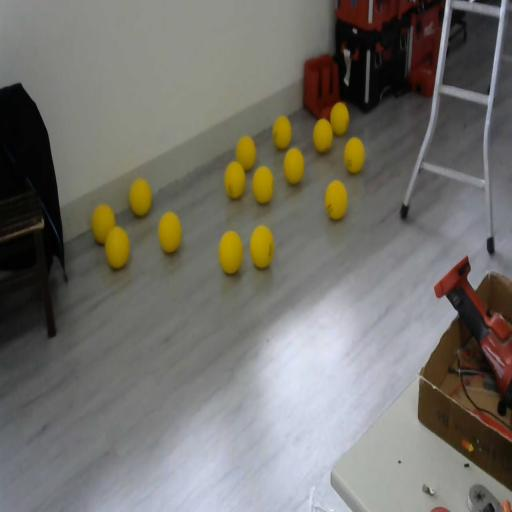FUEL: (249, 224, 275, 270), (104, 224, 130, 270), (218, 229, 244, 274), (157, 210, 182, 254), (324, 178, 348, 220), (128, 176, 152, 217), (252, 164, 274, 204), (312, 116, 334, 154), (224, 161, 245, 200), (235, 134, 257, 171), (344, 136, 364, 174), (284, 148, 304, 185), (330, 100, 350, 136), (272, 116, 292, 150)
